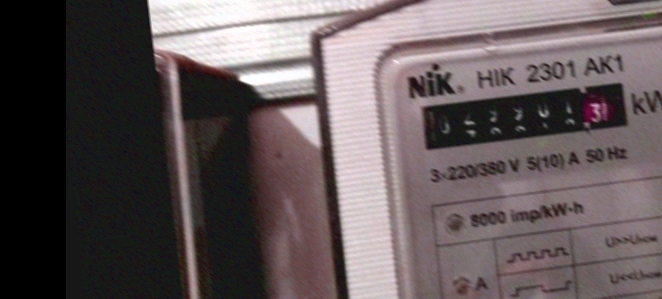0: (534, 91, 551, 117), (434, 109, 453, 132)
1: (559, 89, 574, 113)
2: (459, 103, 477, 124)
3: (587, 97, 602, 120)
9: (509, 96, 526, 119), (484, 99, 499, 122)
screen: (406, 68, 639, 158)
